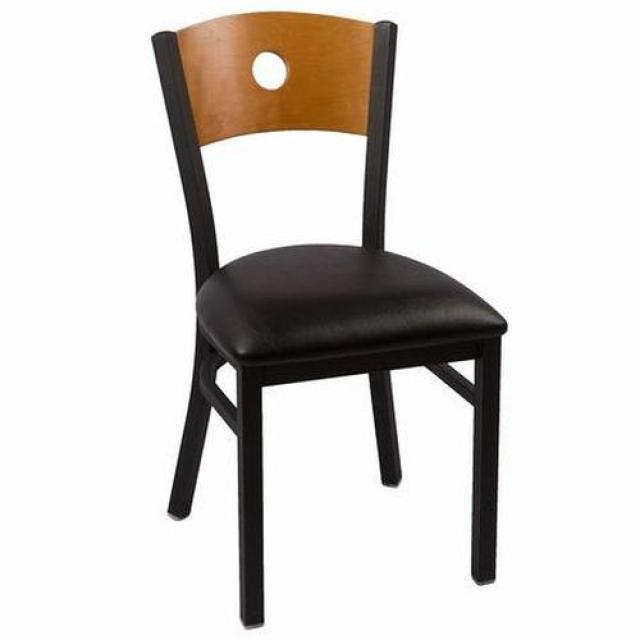chair: (152, 15, 508, 631)
